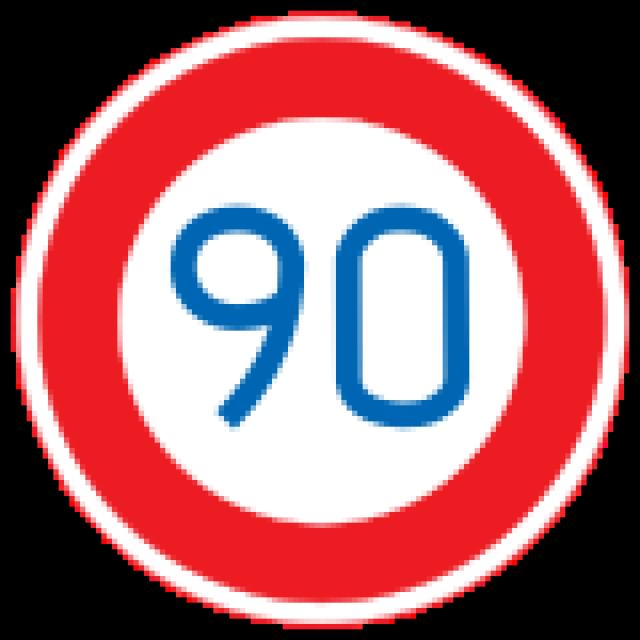Speed Limit -90-: (163, 198, 483, 440)
